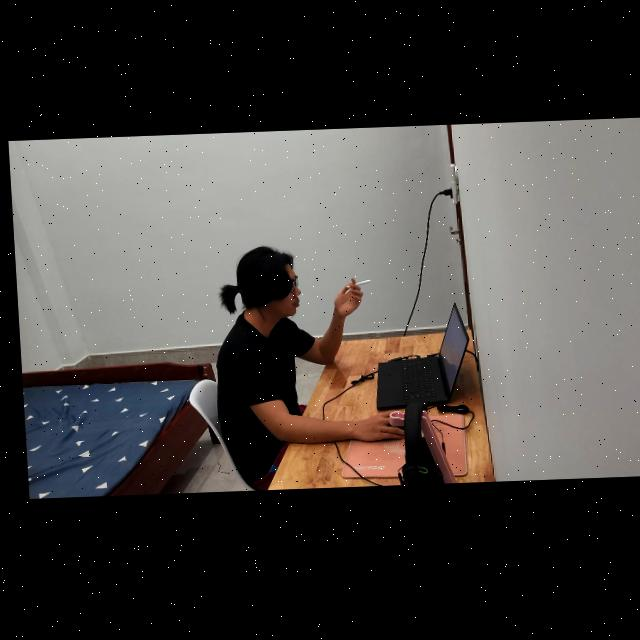cigarette: (343, 282, 367, 292)
